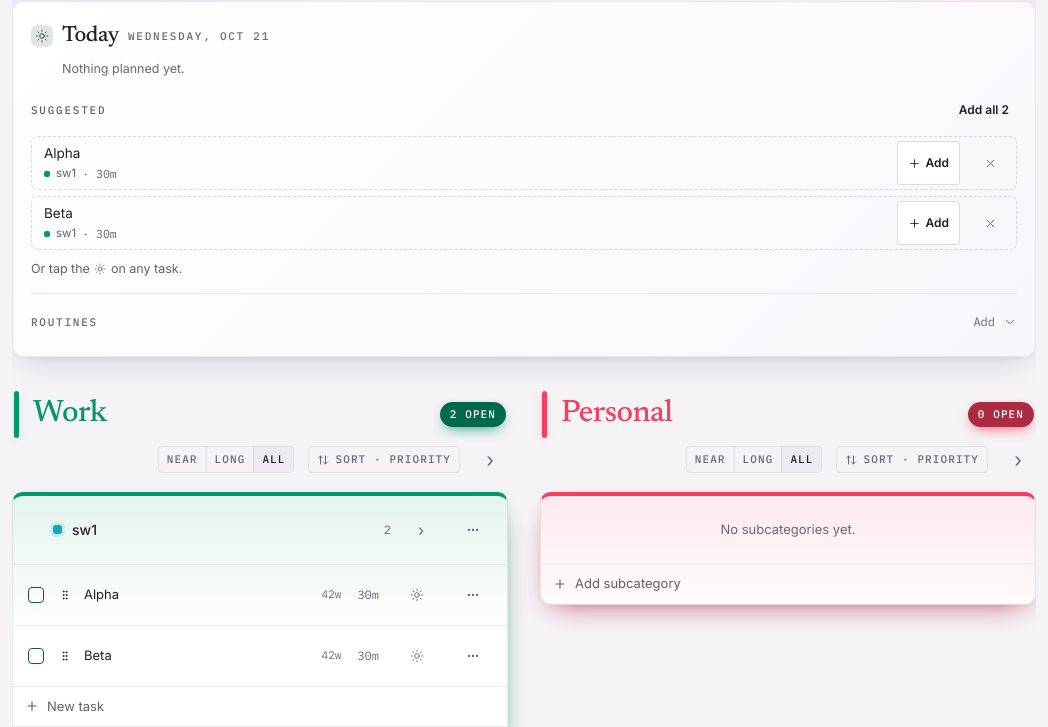
Test: Dashboard › completing a task updates the streak without a refetch (chunk 78)
The image size is (1048, 727).
(page scrolled)
// Either open task will do: one completion today makes a 1-day streak.
Click the 1st checkbox named "Mark task complete" at {"x": 36, "y": 594}, box [28,586,44,602]
(page scrolled)
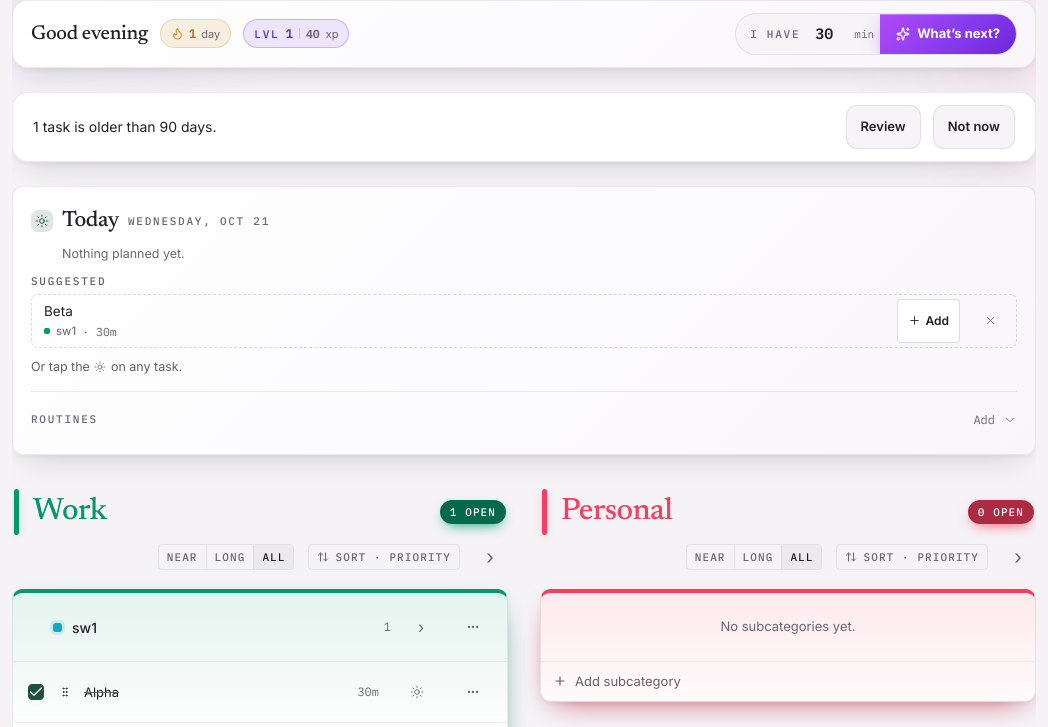
expect the element titled "Task streak" shows "1": met, box [189,25,196,41]
